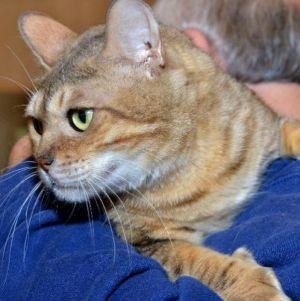bengal: (2, 1, 184, 204)
